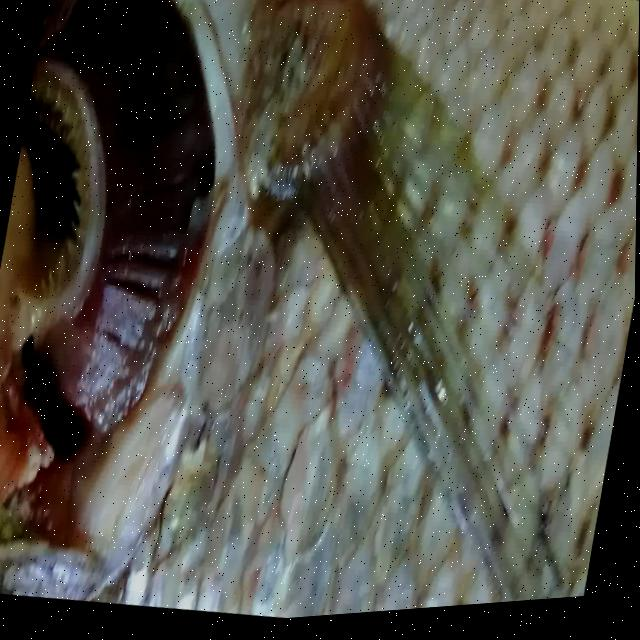Non-Fresh: (0, 0, 266, 439)
